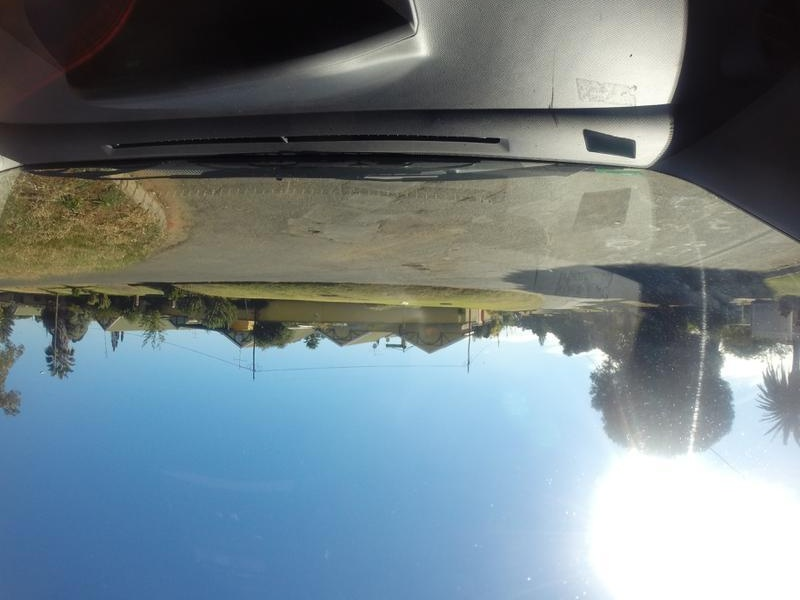pothole: (305, 222, 334, 241), (400, 259, 436, 272), (454, 193, 481, 210)
